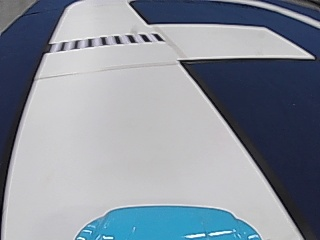CrossWalk: (53, 31, 161, 51)
